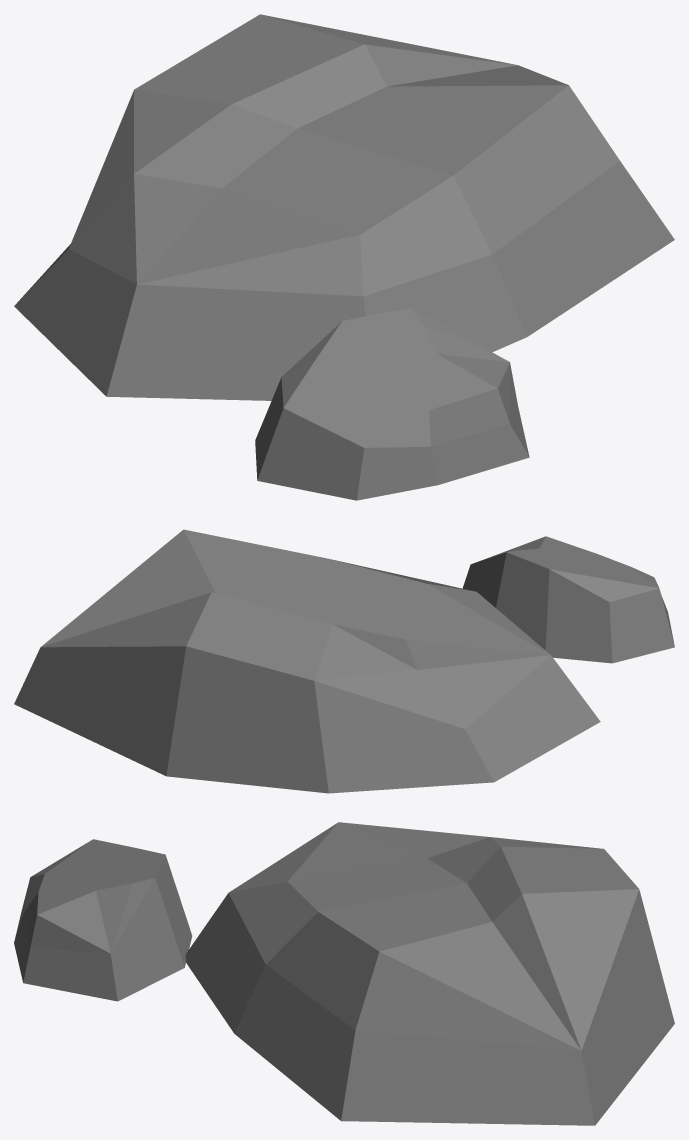
The model's file is model_polytope_rock_small01.fbx.
3 views of the same model, one above another, from view 1: azimuth 30°, elevation 25°; view 2: azimuth 150°, elevation 25°; view 3: azimuth 270°, elevation 25° (orthographic). The views are drawn at different scales.
Visible parts, largest first — view 1: model_polytope_rock_small01; view 2: model_polytope_rock_small01; view 3: model_polytope_rock_small01.
Boxes of the visible parts, box(x1,y1,x2,y2) form: model_polytope_rock_small01: box(14, 14, 674, 500); model_polytope_rock_small01: box(14, 529, 674, 793); model_polytope_rock_small01: box(14, 822, 674, 1125).
Bounding box in the file's own units: 242 × 64.82 × 272.
